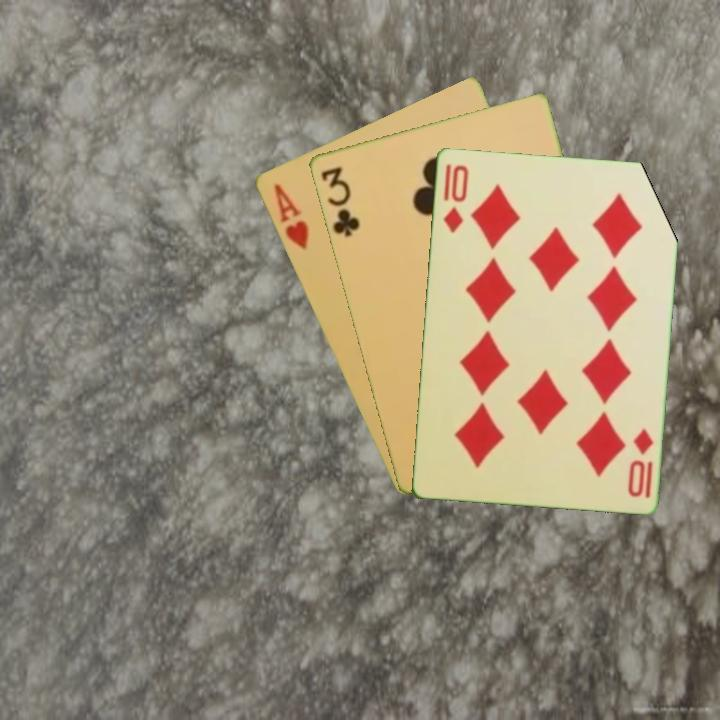10d: (623, 424, 656, 500), (439, 160, 471, 235)
3c: (317, 162, 362, 240)
Ah: (270, 179, 311, 252)
